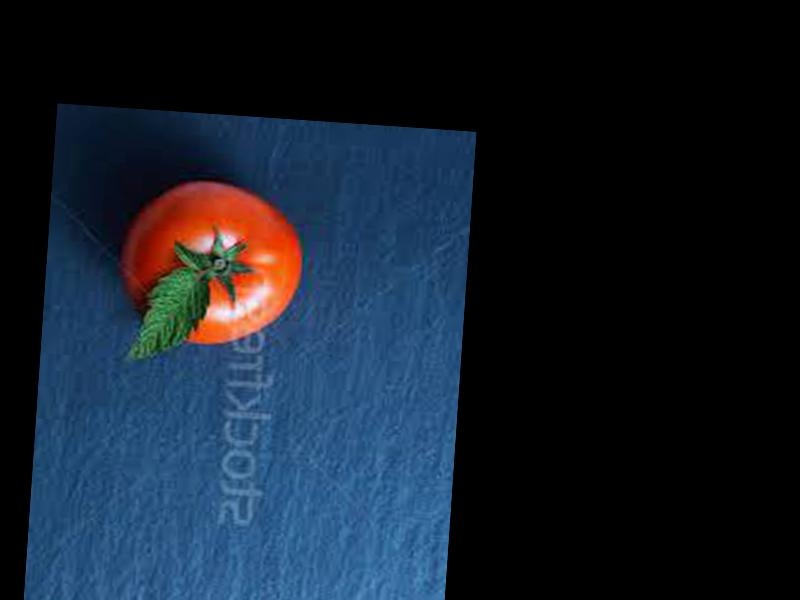Tomato: (119, 177, 306, 351)
